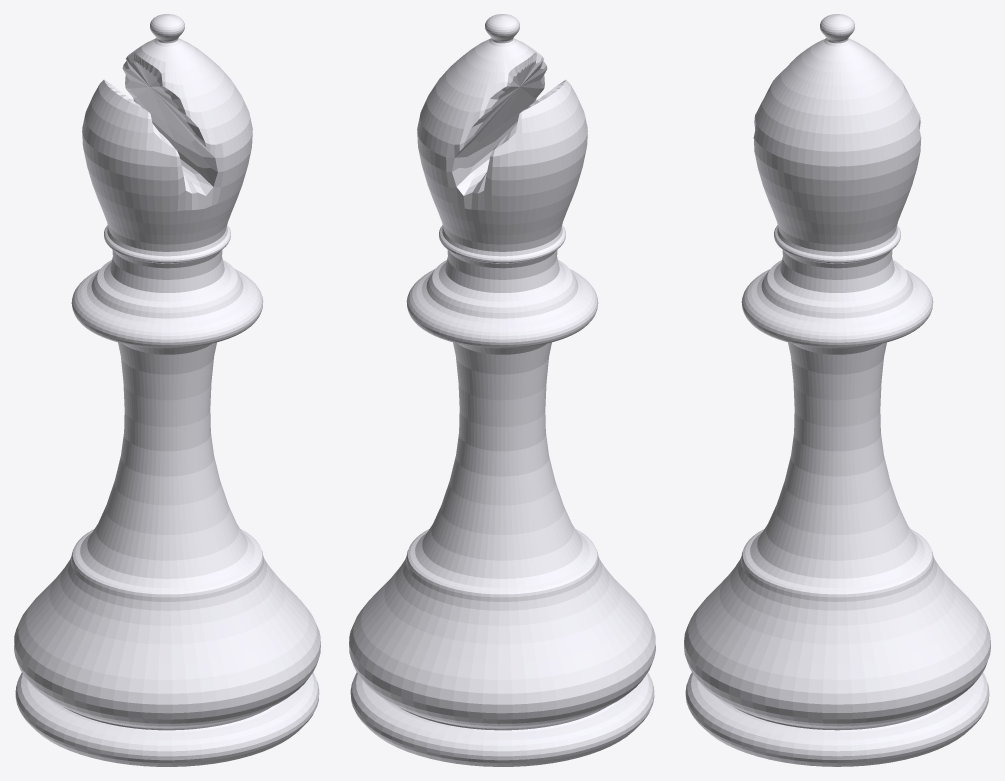
The model's file is bishop.glb.
3 renders of one model, left to right at view 1: azimuth 30°, elevation 25°; view 2: azimuth 150°, elevation 25°; view 3: azimuth 270°, elevation 25°, orthographic.
Parts seen in each view (by area): view 1: bishop_white_2; view 2: bishop_white_2; view 3: bishop_white_2.
Boxes of the visible parts, x1,y1,x2,y2 form: bishop_white_2: [14, 14, 320, 766]; bishop_white_2: [349, 14, 655, 766]; bishop_white_2: [684, 14, 990, 766].
Bounding box in the file's own units: 1.17 × 2.93 × 1.17.
Materials: 1 (1 with a texture image).
